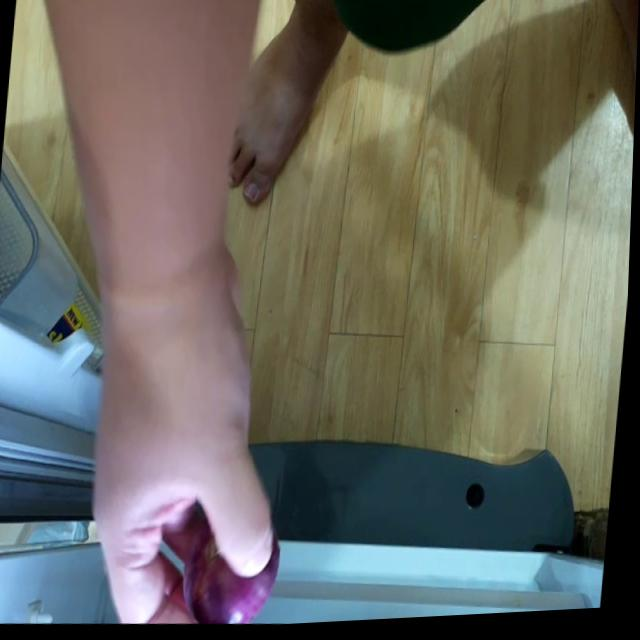onion: (184, 524, 286, 631)
